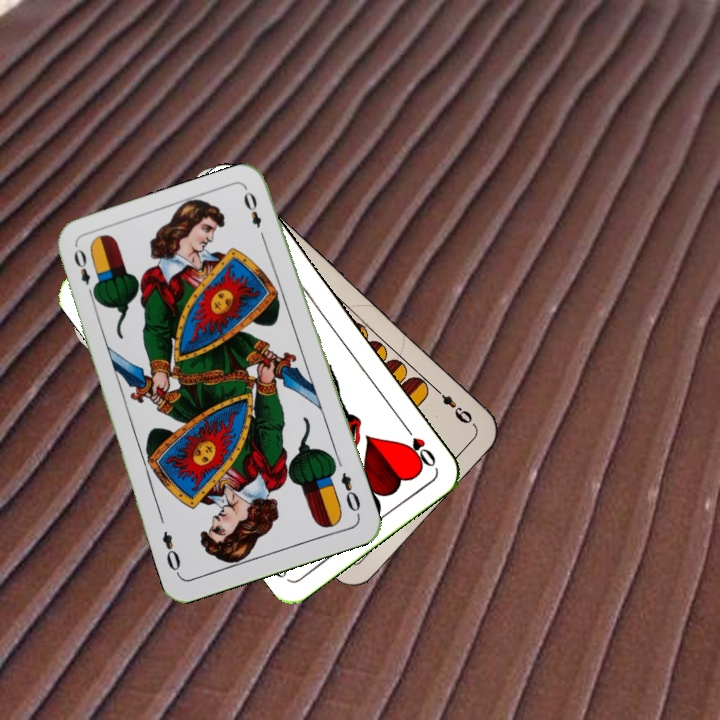E9: (429, 383, 477, 428)
EO: (70, 245, 99, 301), (337, 468, 363, 515)
HO: (398, 419, 439, 470)
